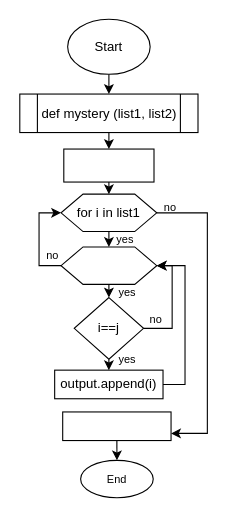
The diagram is 235 pixels wide and 517 high, and some of its shapes have lost their labels. The shapes that lost their labels are listed below. From the top down, each one's centre as x and y in pixels, then its label:
the point at 108,165: output = []
the point at 108,265: for j in list2
the point at 116,426: return output
